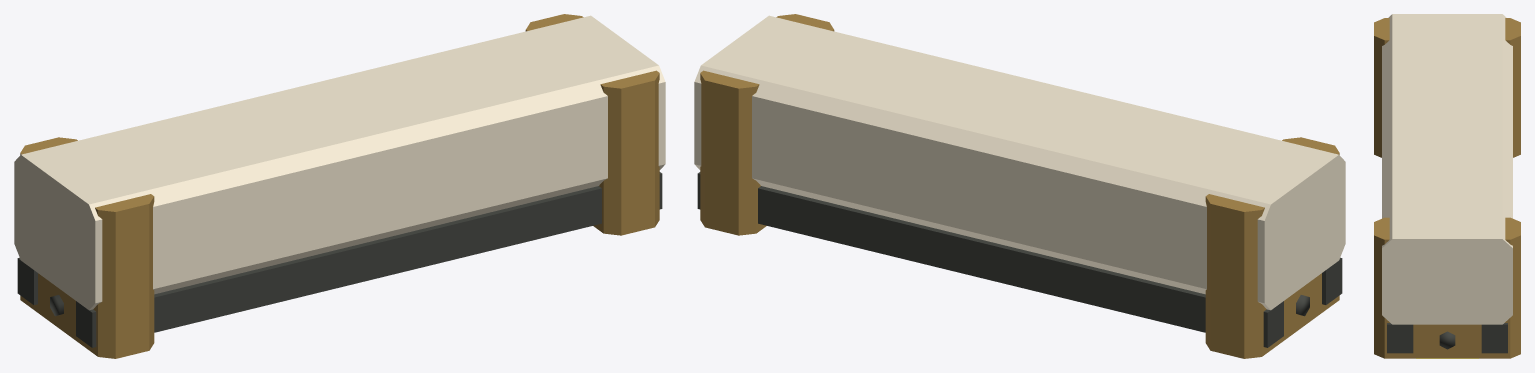
Rendered from b2_beam.glb.
3 renders of one model, left to right at view 1: azimuth 30°, elevation 25°; view 2: azimuth 150°, elevation 25°; view 3: azimuth 270°, elevation 25°, orthographic. The views are drawn at different scales.
Visible parts, largest first — view 1: b2_beam; view 2: b2_beam; view 3: b2_beam.
Part boxes in pixels (box(x1,y1,x2,y2)): b2_beam: box(14, 14, 665, 358); b2_beam: box(694, 14, 1345, 358); b2_beam: box(1374, 14, 1520, 358).
Size of the model in its own units: 2.03 by 0.53 by 0.56.
